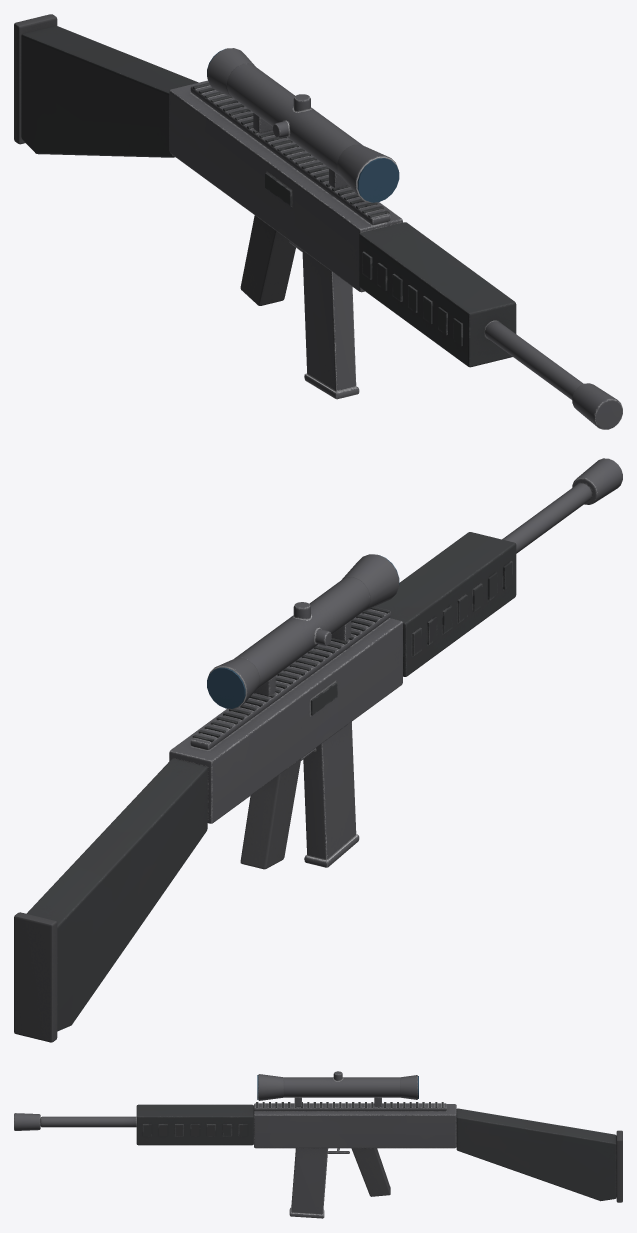
The picture shows the model from 3 angles, top to bottom: view 1: azimuth 30°, elevation 25°; view 2: azimuth 150°, elevation 25°; view 3: azimuth 270°, elevation 25°; orthographic projection. The views are drawn at different scales.
Parts seen in each view (by area): view 1: g3sg1; view 2: g3sg1; view 3: g3sg1.
Part boxes in pixels (<box>): g3sg1: <box>14,14,622,429</box>; g3sg1: <box>14,458,622,1042</box>; g3sg1: <box>14,1071,622,1218</box>.
Bounding box in the file's own units: 0.0599 × 0.2962 × 1.14.
